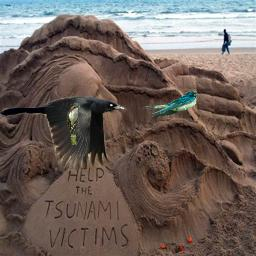Crow: (0, 95, 128, 172)
Cuckoo: (67, 104, 80, 145)
Swallow: (141, 91, 199, 117)
